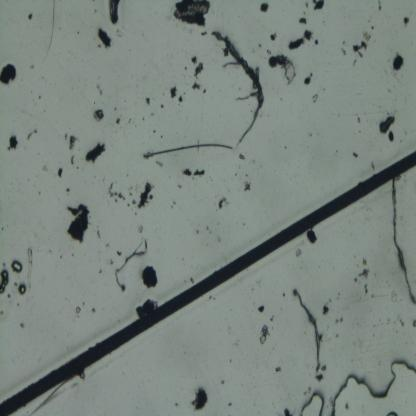Air bubble: (330, 361, 416, 415), (299, 388, 328, 416), (17, 282, 27, 296), (11, 260, 22, 272)
Background material: (143, 139, 234, 160), (40, 0, 58, 69), (174, 0, 210, 30), (64, 203, 90, 242), (269, 53, 296, 86), (130, 182, 154, 208), (352, 30, 372, 58), (288, 30, 313, 51), (83, 141, 106, 162), (379, 116, 396, 144), (192, 384, 208, 412), (0, 63, 18, 87), (136, 299, 158, 318), (24, 246, 34, 287), (361, 254, 370, 298), (94, 26, 112, 48), (143, 263, 158, 289), (108, 184, 126, 204), (188, 56, 204, 77), (108, 1, 121, 25), (0, 269, 11, 297), (180, 166, 207, 177), (391, 54, 405, 72), (216, 197, 232, 212), (260, 323, 270, 347), (65, 134, 79, 150), (7, 134, 19, 152), (95, 82, 106, 100), (92, 108, 106, 121), (165, 197, 180, 209), (25, 128, 39, 140), (308, 229, 318, 245), (242, 179, 253, 193), (190, 81, 204, 92), (304, 71, 313, 87), (312, 1, 325, 12), (268, 30, 278, 44), (259, 2, 270, 14), (331, 315, 344, 325), (237, 148, 247, 161), (321, 302, 330, 316), (156, 157, 165, 171), (402, 14, 411, 28), (297, 14, 308, 25), (169, 86, 178, 99), (312, 92, 320, 106), (341, 41, 348, 57), (215, 376, 225, 387), (295, 247, 304, 258), (377, 0, 383, 15), (73, 304, 82, 314), (316, 372, 324, 383), (56, 166, 64, 177), (257, 304, 266, 313), (70, 152, 75, 166), (356, 113, 362, 124), (177, 94, 184, 103), (117, 250, 124, 258), (27, 12, 33, 21), (145, 96, 151, 105), (284, 406, 290, 415), (276, 365, 282, 373), (314, 36, 318, 48), (352, 152, 359, 158), (411, 320, 416, 328), (116, 118, 121, 125), (322, 364, 327, 371)
Cellulose filter fibre: (209, 31, 264, 146), (390, 177, 416, 306), (292, 289, 321, 372), (114, 238, 149, 291)
Hair: (0, 150, 416, 415)
